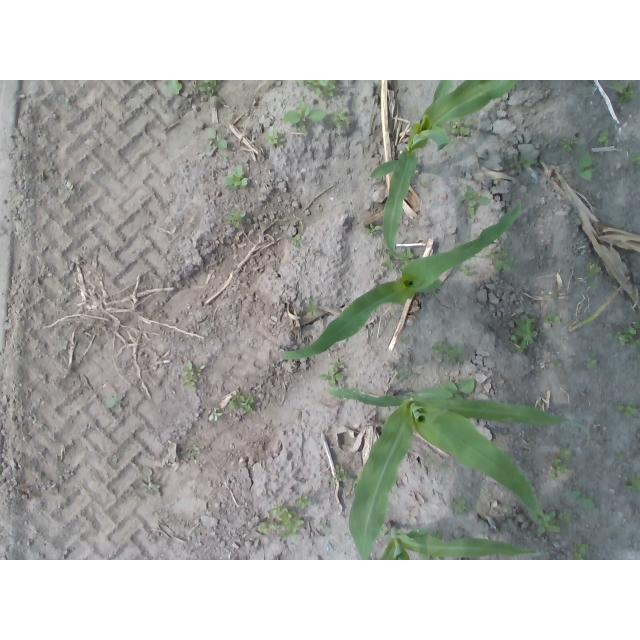Maize: (326, 388, 593, 560), (282, 203, 522, 361), (367, 80, 521, 269), (376, 522, 549, 560)
Weeds: (255, 503, 305, 541), (283, 102, 325, 135), (509, 315, 539, 353), (455, 185, 490, 216), (614, 316, 640, 350), (439, 379, 475, 402), (528, 510, 560, 535), (139, 466, 163, 498), (431, 341, 465, 363), (549, 445, 571, 479), (297, 80, 338, 98), (327, 465, 358, 488), (202, 125, 229, 151), (487, 248, 514, 273), (223, 164, 248, 190), (319, 362, 346, 386), (567, 487, 596, 509), (574, 152, 596, 181), (184, 360, 204, 390), (228, 392, 254, 413), (611, 80, 635, 102), (446, 493, 468, 515), (181, 440, 203, 460), (377, 248, 396, 271), (449, 117, 472, 136), (327, 110, 350, 129), (510, 152, 530, 172), (227, 209, 246, 228), (265, 129, 284, 148), (398, 247, 414, 269), (571, 541, 589, 560), (622, 473, 640, 492), (196, 80, 217, 96), (164, 80, 184, 96), (618, 401, 638, 417), (584, 262, 603, 278), (294, 492, 312, 508), (102, 395, 122, 409), (304, 299, 319, 317), (595, 130, 610, 146), (364, 222, 381, 236), (545, 310, 562, 324), (628, 150, 640, 169), (559, 137, 574, 152), (208, 407, 223, 421), (559, 510, 574, 524), (421, 552, 444, 561), (289, 234, 304, 247), (586, 356, 599, 368), (397, 370, 410, 378), (552, 358, 562, 368), (464, 267, 476, 275), (431, 530, 442, 538), (502, 502, 511, 510), (418, 180, 427, 188), (615, 453, 625, 459)
